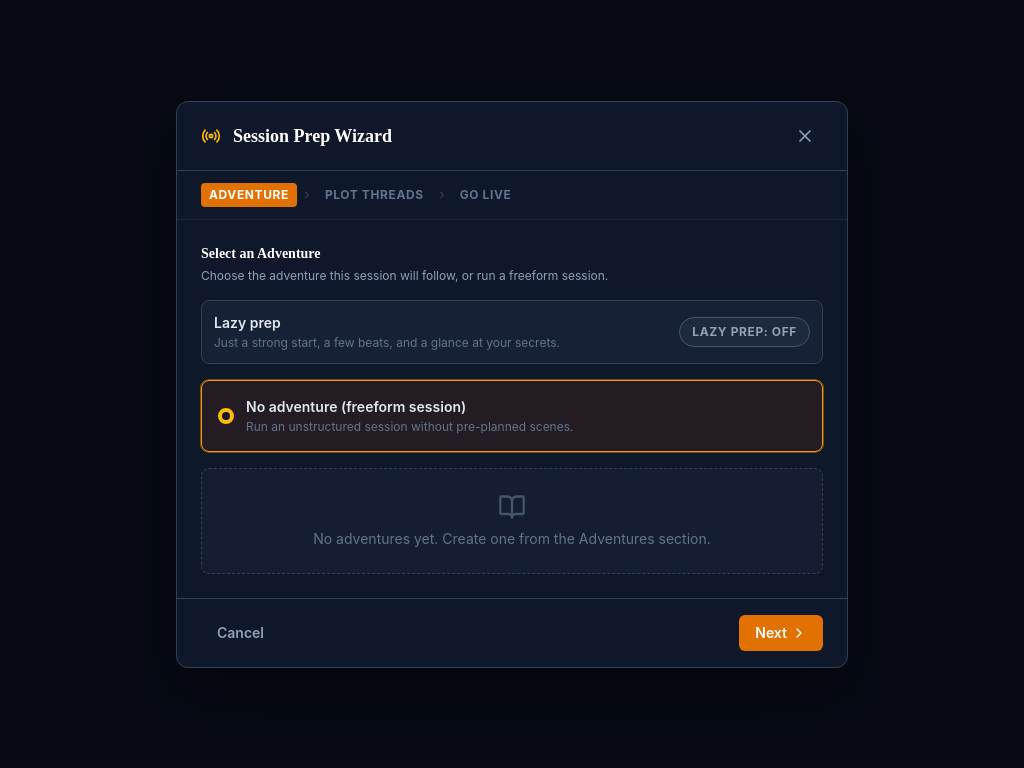
Test case: "Drop into action" has no material precondition › is offered on the Strong Start step even with nothing played or prepped
What coordinates should you click on to do the following:
click the button "Lazy prep: off"
I would click on:
 (745, 332)
Its box is [679, 316, 810, 346].
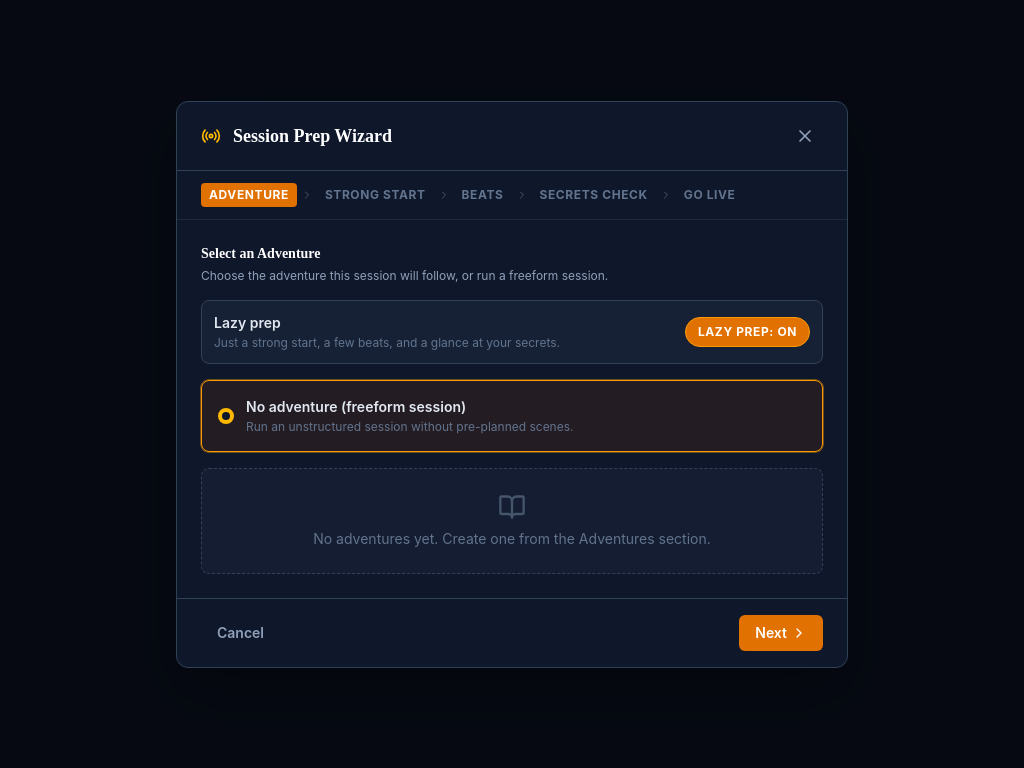
What coordinates should you click on to do the following:
click the button "Strong Start"
I would click on:
 (375, 194)
Its box is [317, 182, 434, 206].
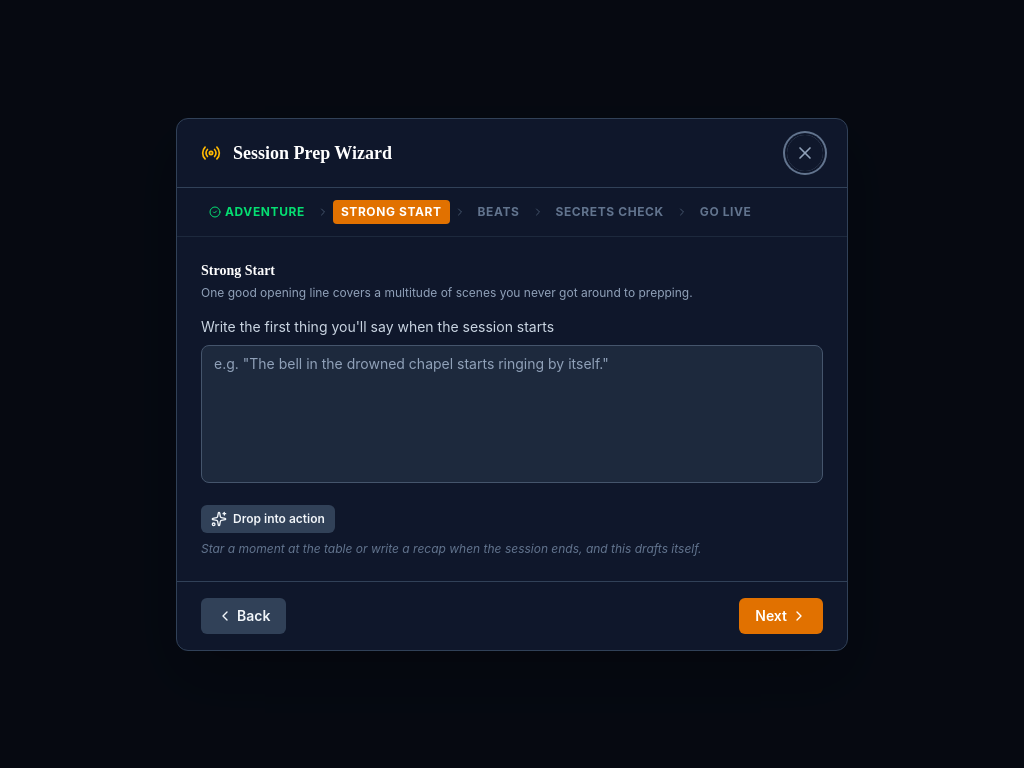
Check: the button "Drop into action" is shown, box [201, 504, 335, 532]
